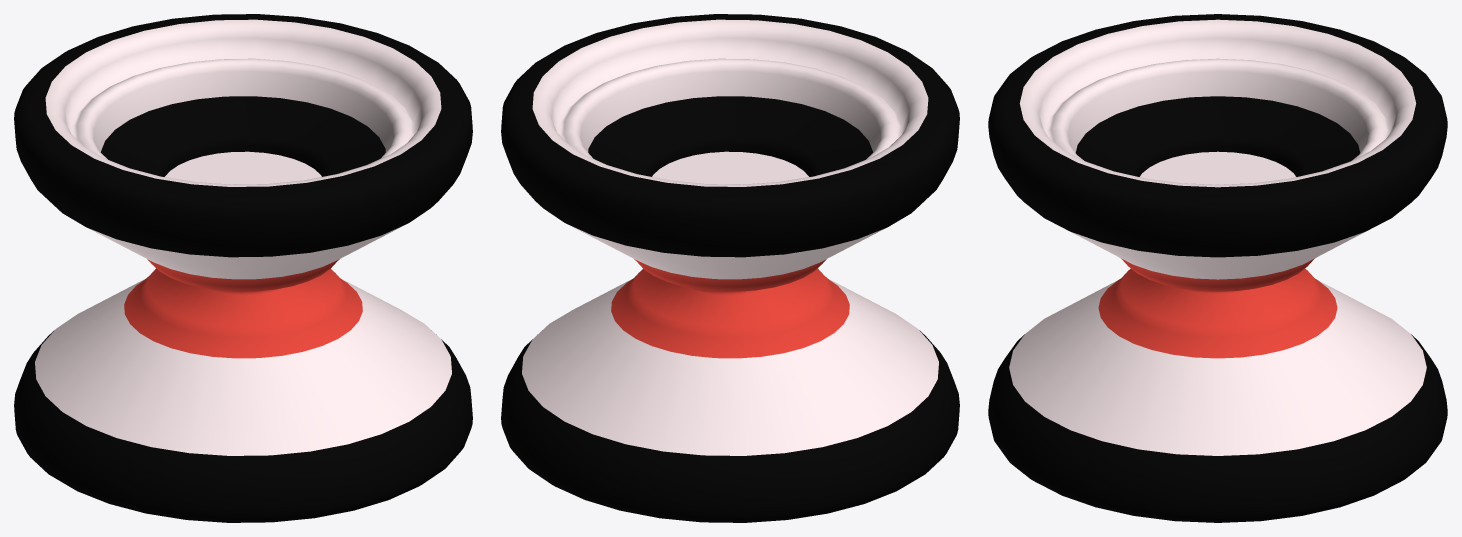
The model's file is yoyo2fbx.fbx.
3 renders of one model, left to right at view 1: azimuth 30°, elevation 25°; view 2: azimuth 150°, elevation 25°; view 3: azimuth 270°, elevation 25°, orthographic.
Parts seen in each view (by area): view 1: Cylinder.003, Cylinder.002, Cylinder.004, Cylinder.001; view 2: Cylinder.003, Cylinder.002, Cylinder.004, Cylinder.001; view 3: Cylinder.003, Cylinder.002, Cylinder.004, Cylinder.001.
Part boxes in pixels (<box>): Cylinder.003: <box>14,14,472,522</box>; Cylinder.002: <box>35,223,451,455</box>; Cylinder.004: <box>45,19,441,186</box>; Cylinder.001: <box>124,259,362,358</box>; Cylinder.003: <box>501,14,959,522</box>; Cylinder.002: <box>522,223,938,455</box>; Cylinder.004: <box>532,19,928,186</box>; Cylinder.001: <box>611,259,849,358</box>; Cylinder.003: <box>988,14,1447,522</box>; Cylinder.002: <box>1009,225,1426,455</box>; Cylinder.004: <box>1019,19,1416,187</box>; Cylinder.001: <box>1098,258,1337,358</box>.
Bounding box in the file's own units: 212 × 168 × 212.
